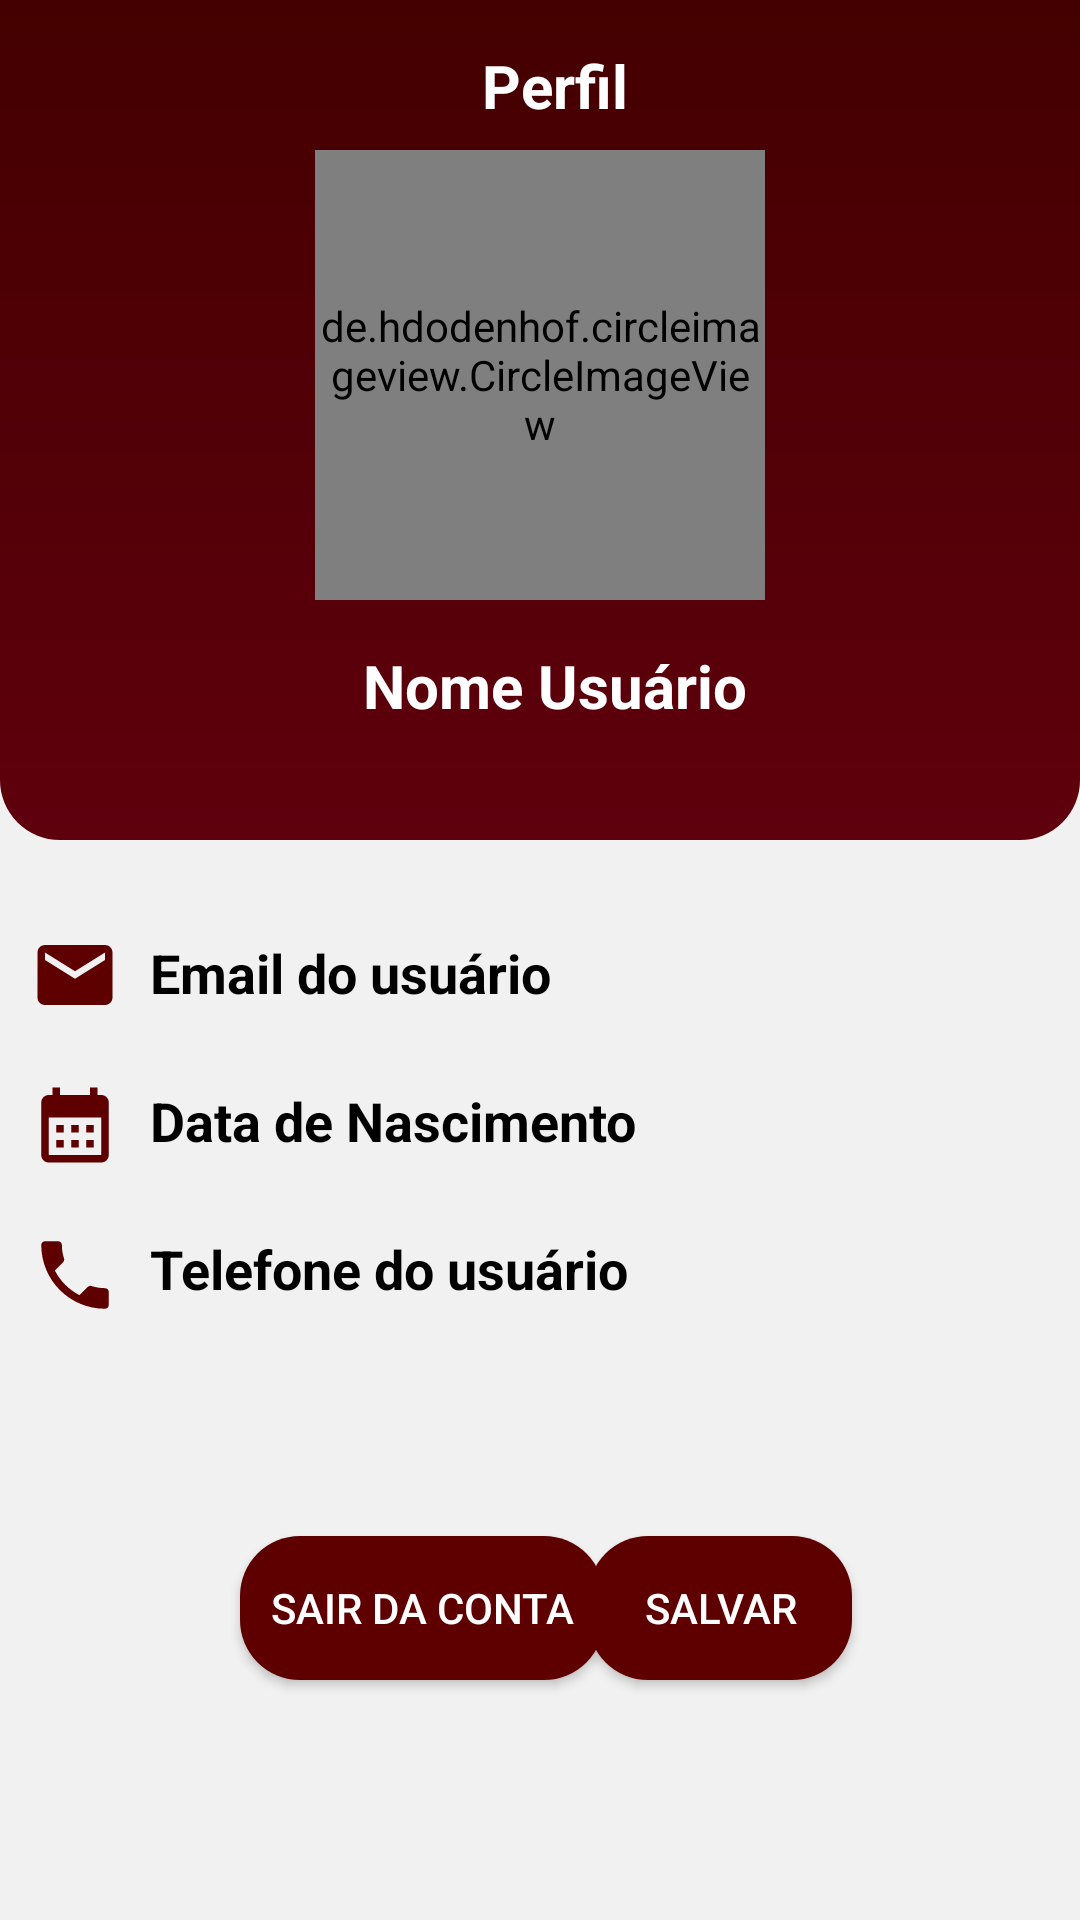

Named icons in this screenshot (1080×1920) and their bounding boxes, (x1, y1, x2, y2):
date: (41, 1087, 109, 1163)
phone: (41, 1241, 109, 1309)
